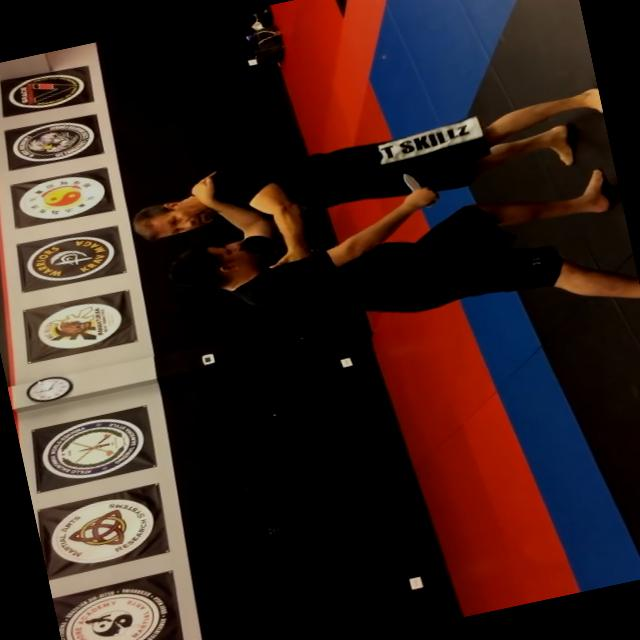knife: (395, 165, 442, 213)
